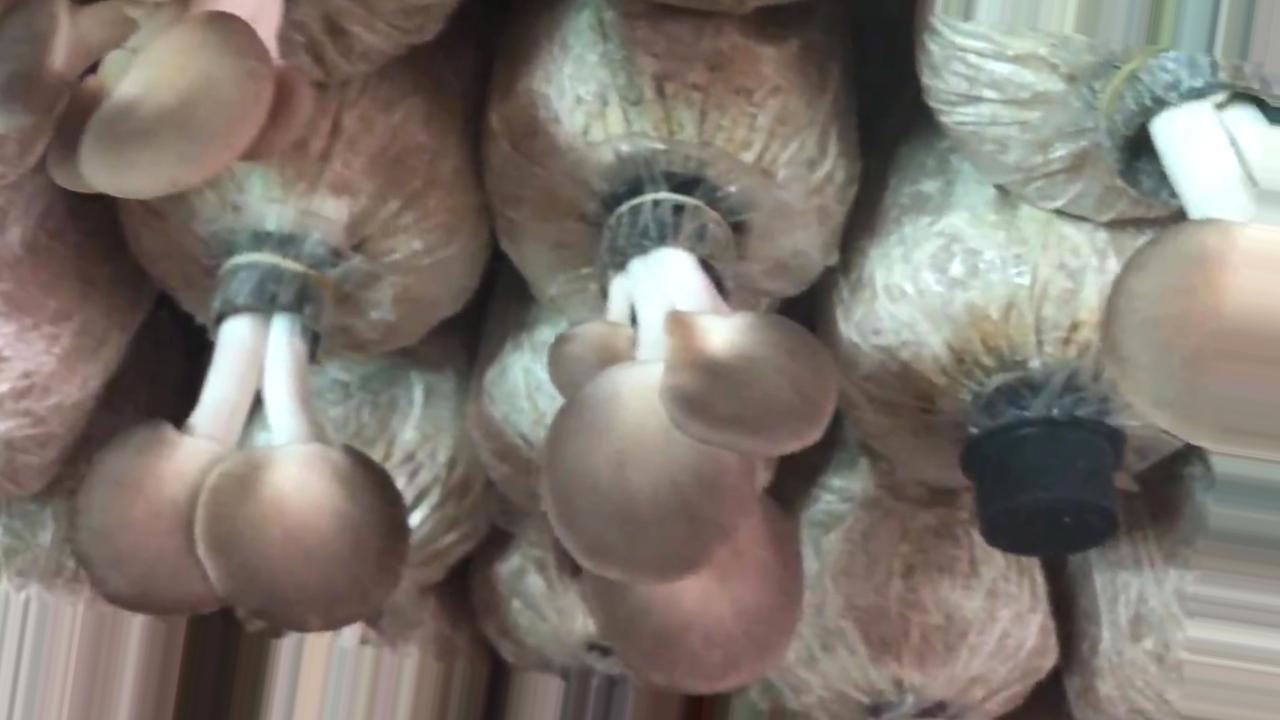nam: (544, 198, 837, 693), (67, 254, 405, 633), (1099, 50, 1280, 462), (1, 1, 316, 196)
